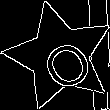O_NW: (27, 23, 92, 89)
